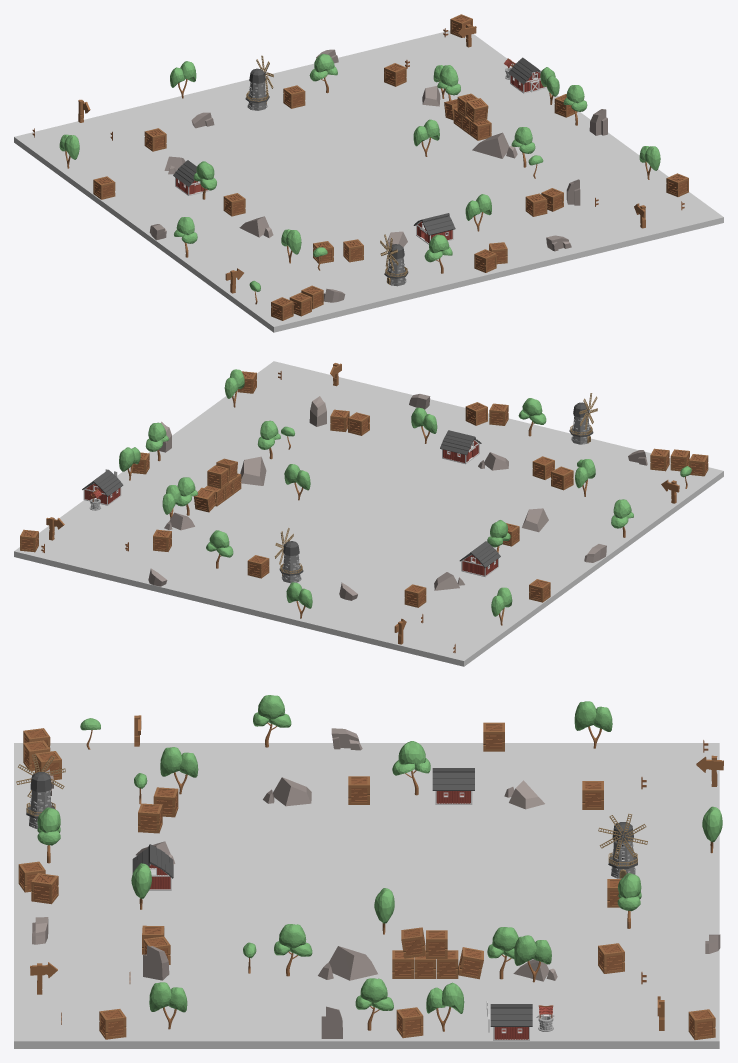
Rendered from world.glb.
3 views of the same model, one above another, from view 1: azimuth 30°, elevation 25°; view 2: azimuth 150°, elevation 25°; view 3: azimuth 270°, elevation 25° (orthographic). The views are drawn at different scales.
Parts seen in each view (by area): view 1: Cube, Small_Barn.002, Small_Barn, TowerWindmill, TowerWindmill.001, Rock3.003, Small_Barn.001, Tree2.006, Tree2.003, Tree4, Tree4.003, Tree4.006 (+1 smaller); view 2: Cube, Small_Barn.002, Small_Barn.001, Small_Barn, TowerWindmill, TowerWindmill.001, Rock3.003, Tree2.006, Tree2.003, Tree4, Tree4.006, Tree4.003 (+3 smaller); view 3: Cube, Small_Barn.001, Small_Barn, Rock3.003, TowerWindmill, Small_Barn.002, Tree2.002, Tree2.004, Tree2.005, Tree2, TowerWindmill.001, Tree4.004 (+29 smaller).
Part boxes in pixels (x1,y1,x2,y2): Cube: [14, 30, 723, 332]; Small_Barn.002: [413, 213, 455, 244]; Small_Barn: [508, 57, 546, 93]; TowerWindmill: [245, 68, 269, 110]; TowerWindmill.001: [384, 244, 408, 286]; Rock3.003: [472, 132, 517, 158]; Small_Barn.001: [173, 160, 212, 195]; Tree2.006: [424, 234, 452, 273]; Tree2.003: [309, 54, 337, 93]; Tree4: [413, 119, 439, 156]; Tree4.003: [465, 194, 491, 231]; Tree4.006: [170, 61, 196, 98]; Cube: [14, 361, 723, 666]; Small_Barn.002: [440, 430, 481, 464]; Small_Barn.001: [459, 541, 500, 576]; Small_Barn: [82, 469, 123, 505]; TowerWindmill: [279, 541, 303, 583]; TowerWindmill.001: [569, 402, 593, 444]; Rock3.003: [240, 456, 266, 485]; Tree2.006: [518, 398, 546, 436]; Tree2.003: [206, 530, 233, 568]; Tree4: [284, 464, 310, 500]; Tree4.006: [286, 582, 312, 618]; Tree4.003: [411, 407, 437, 443]; Cube: [14, 743, 719, 1048]; Small_Barn.001: [432, 768, 474, 804]; Small_Barn: [490, 1004, 532, 1040]; Rock3.003: [318, 946, 377, 980]; TowerWindmill: [608, 822, 637, 878]; Small_Barn.002: [132, 844, 173, 890]; Tree2.002: [355, 978, 393, 1030]; Tree2.004: [392, 741, 430, 795]; Tree2.005: [253, 695, 291, 747]; Tree2: [274, 924, 312, 976]; TowerWindmill.001: [26, 772, 55, 828]; Tree4.004: [160, 747, 198, 794].
Size of the model in its own units: 113 by 14.03 by 114.
